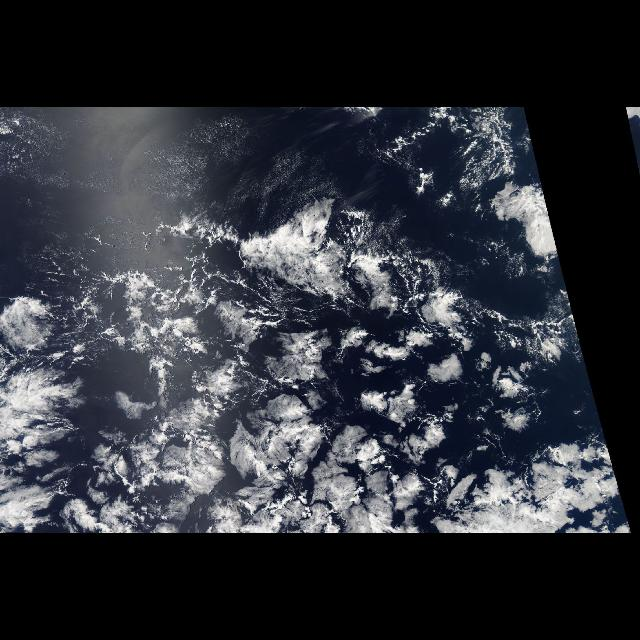Fish: (232, 176, 576, 374)
Flower: (196, 295, 618, 531)
Sugar: (11, 265, 622, 531), (2, 118, 314, 216)
